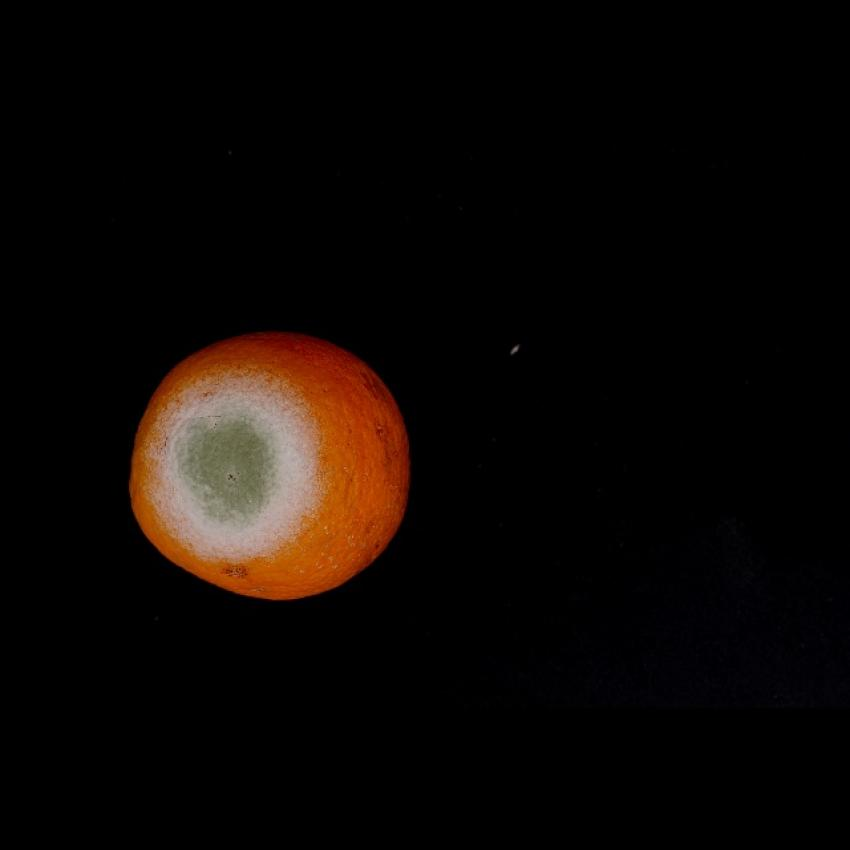Mal estado: (112, 326, 447, 611)
